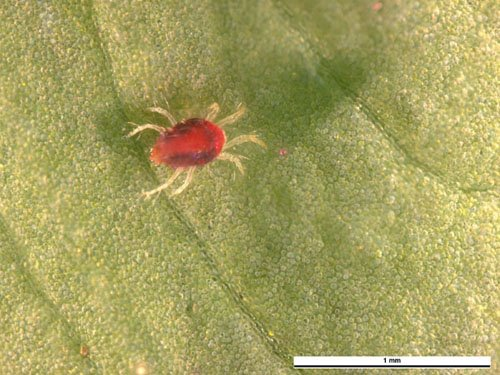Mites: (137, 80, 264, 236)
